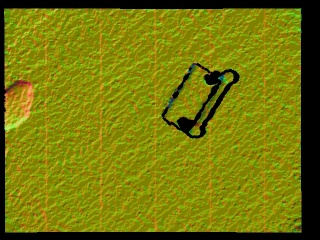station: (162, 63, 237, 140)
